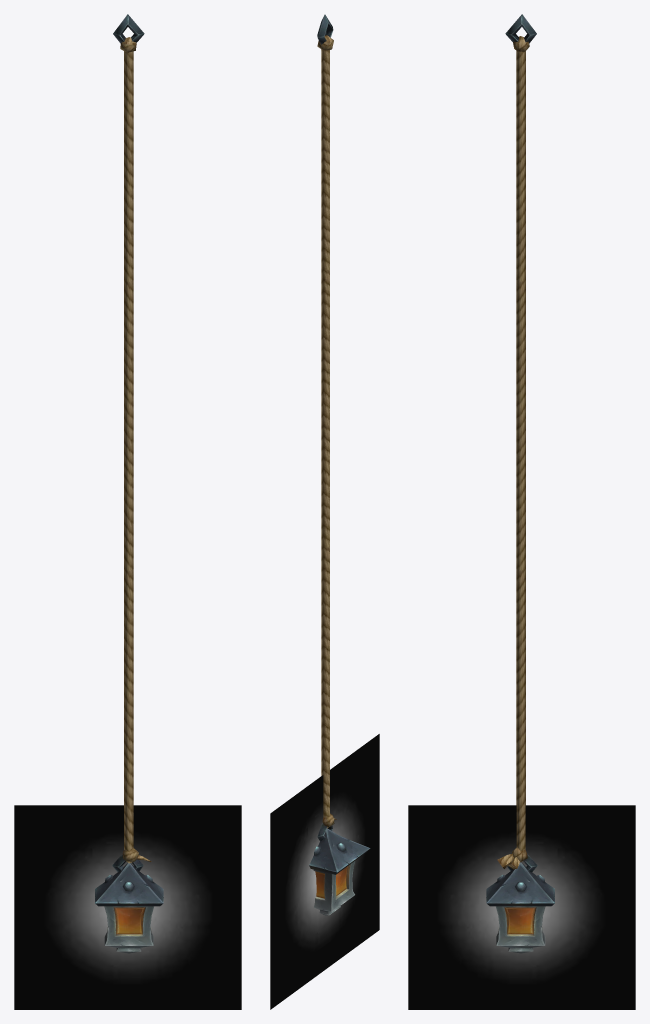
The picture shows the model from 3 angles, left to right: view 1: azimuth 90°, elevation 25°; view 2: azimuth 150°, elevation 25°; view 3: azimuth 270°, elevation 25°; orthographic projection. The views are drawn at different scales.
Bounding box in the file's own units: 0.8122 × 13.06 × 2.7.
Materials: 2 (2 with a texture image).
